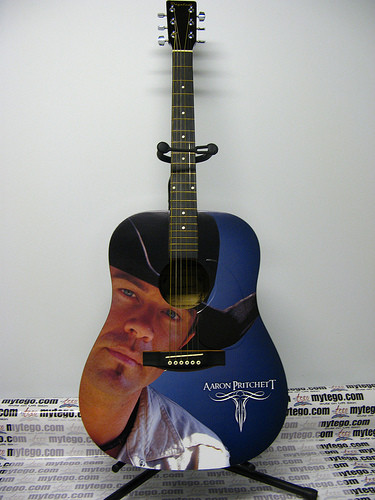guitar: (76, 1, 289, 475)
